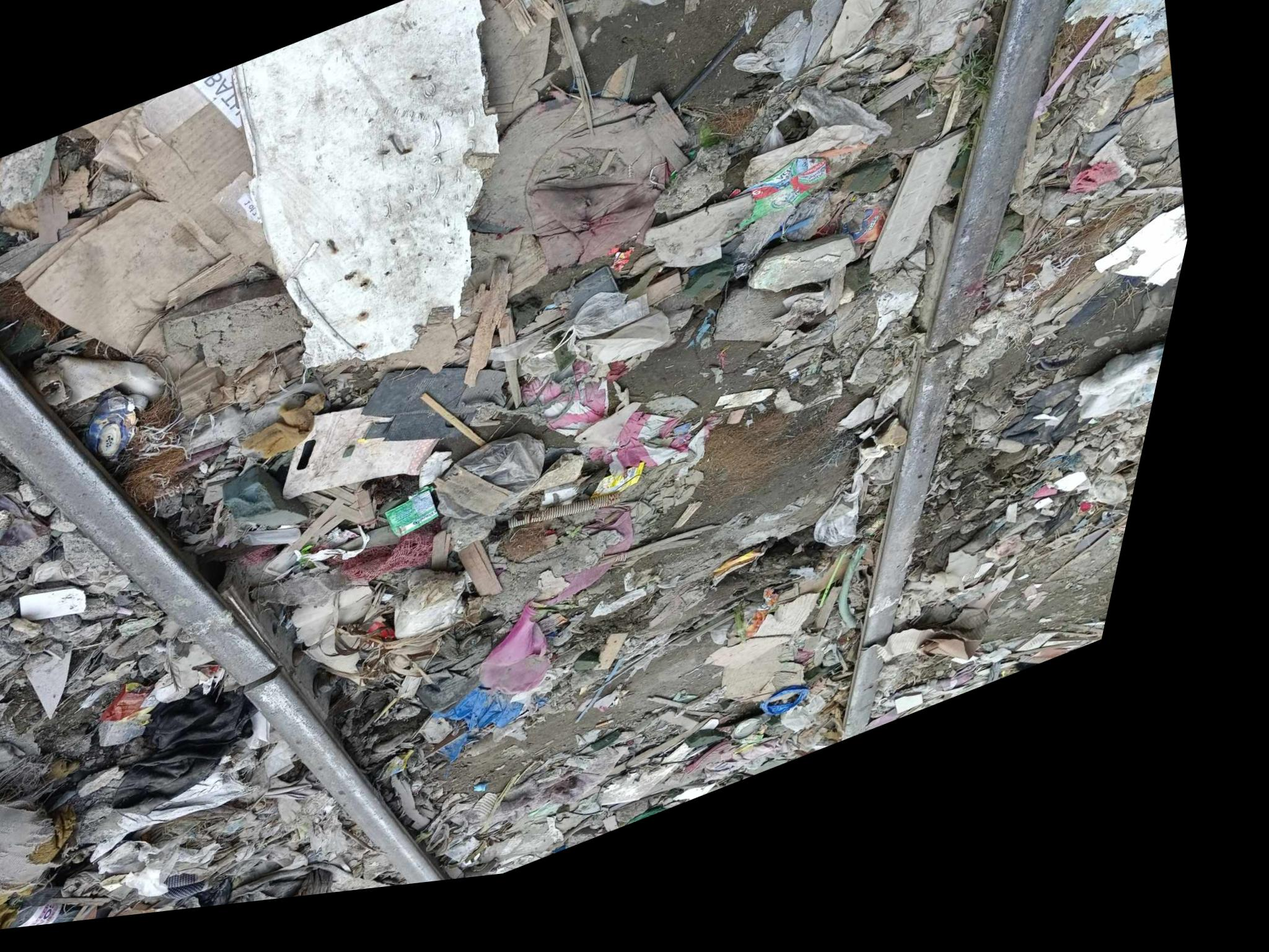person: (886, 302, 1040, 438), (219, 622, 364, 754)
